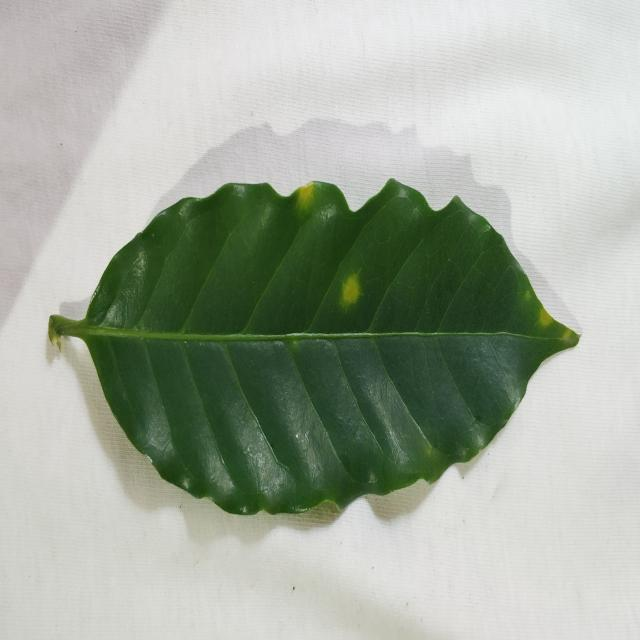Enfermedad-Roya: (47, 181, 580, 527)
